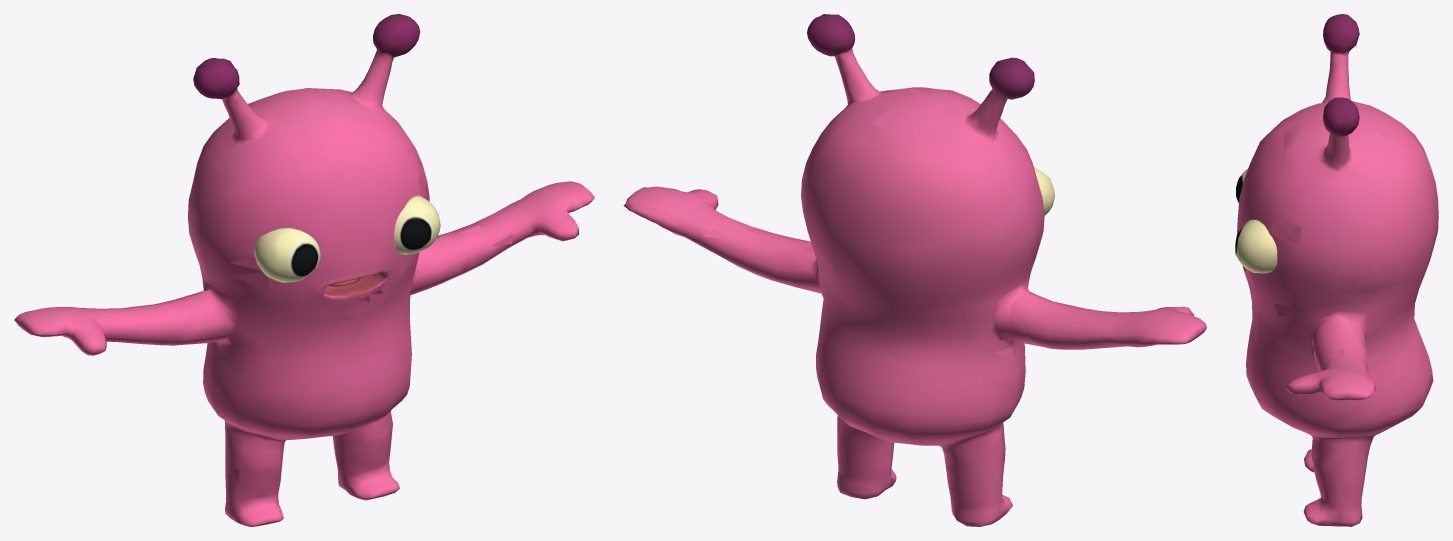
Rendered from PinkAlien (1).fbx.
3 views of the same model, side by side, from view 1: azimuth 30°, elevation 25°; view 2: azimuth 150°, elevation 25°; view 3: azimuth 270°, elevation 25° (orthographic). The views are drawn at different scales.
Parts seen in each view (by area): view 1: mesh_node; view 2: mesh_node; view 3: mesh_node.
Part boxes in pixels (box(x1,y1,x2,y2)): mesh_node: box(14, 14, 594, 526); mesh_node: box(623, 14, 1206, 526); mesh_node: box(1235, 14, 1438, 526).
Size of the model in its own units: 100 by 79.1 by 33.5.
Materials: 1 (1 with a texture image).
